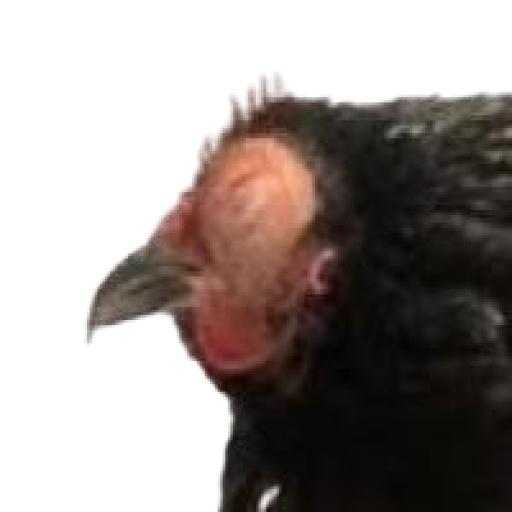disease: (178, 133, 300, 309)
